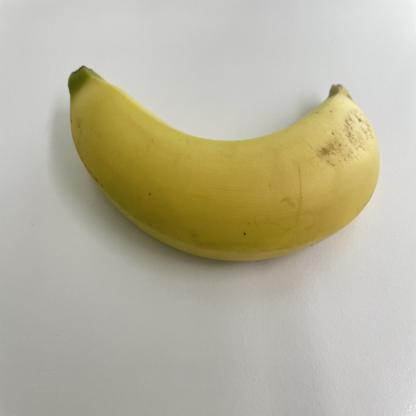banana: (61, 52, 383, 268)
